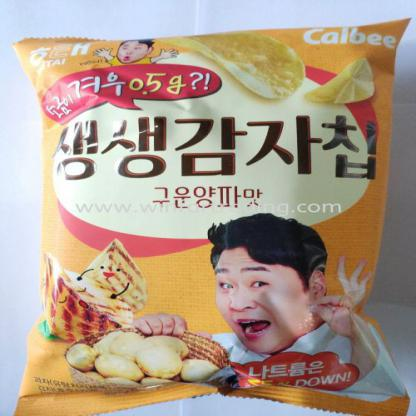potatochip: (6, 10, 415, 416)
